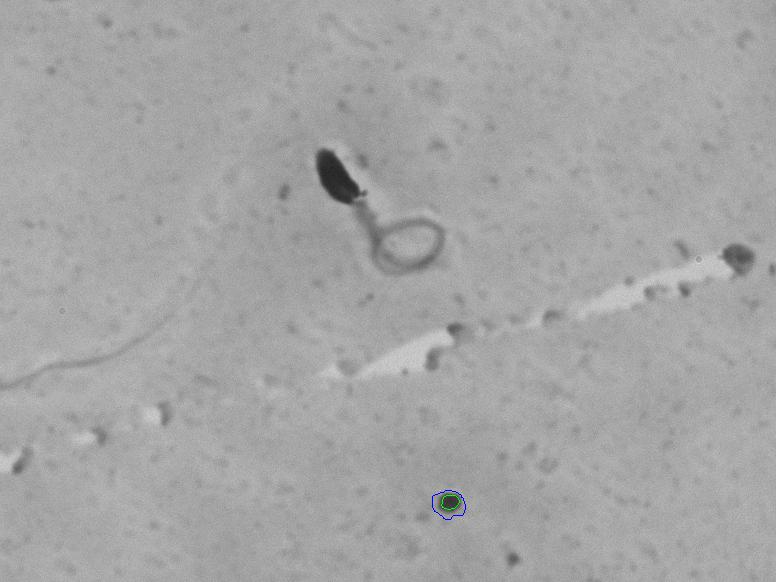Abnormal: (281, 105, 488, 301)
